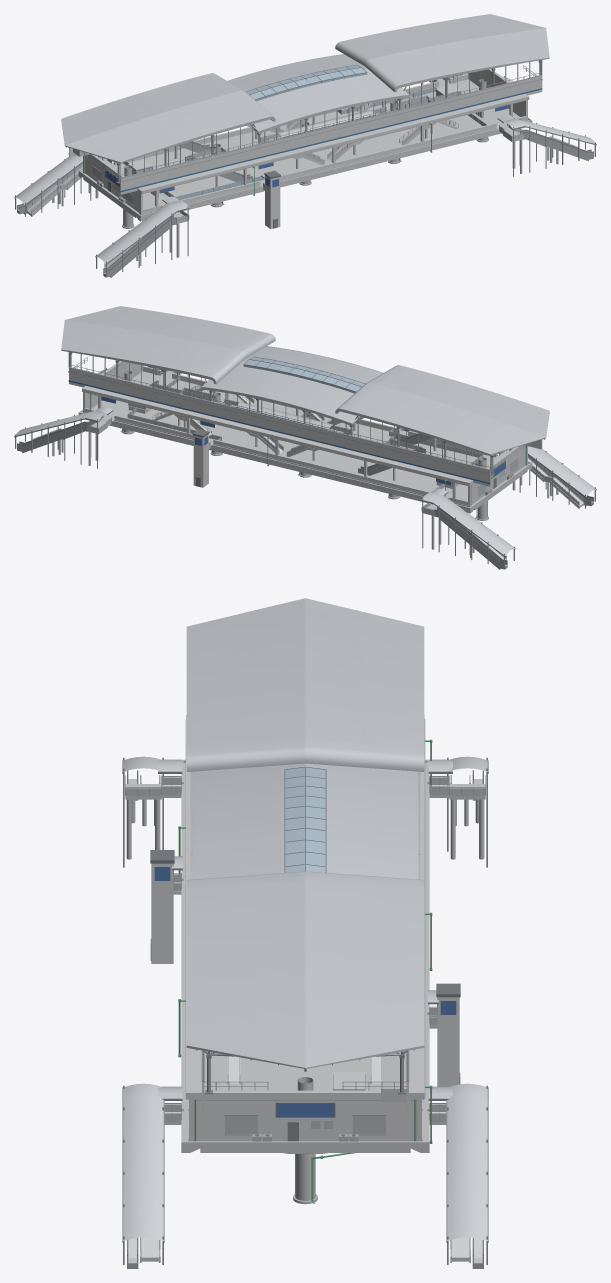
3 renders of one model, top to bottom at view 1: azimuth 30°, elevation 25°; view 2: azimuth 150°, elevation 25°; view 3: azimuth 270°, elevation 25°, orthographic. The views are drawn at different scales.
Visible parts, largest first — view 1: BL06, BL06_conc, BL06_access; view 2: BL06, BL06_conc, BL06_access; view 3: BL06, BL06_access, BL06_conc.
Part boxes in pixels (box(x1,y1,x2,y2)): BL06: box(61, 14, 549, 194); BL06_conc: box(78, 69, 532, 228); BL06_access: box(14, 73, 596, 277); BL06: box(61, 306, 549, 486); BL06_conc: box(78, 361, 532, 520); BL06_access: box(14, 365, 596, 569); BL06: box(186, 598, 424, 1114); BL06_access: box(122, 739, 488, 1268); BL06_conc: box(181, 714, 429, 1204).
Bounding box in the file's own units: 132 × 28.7 × 42.5.
